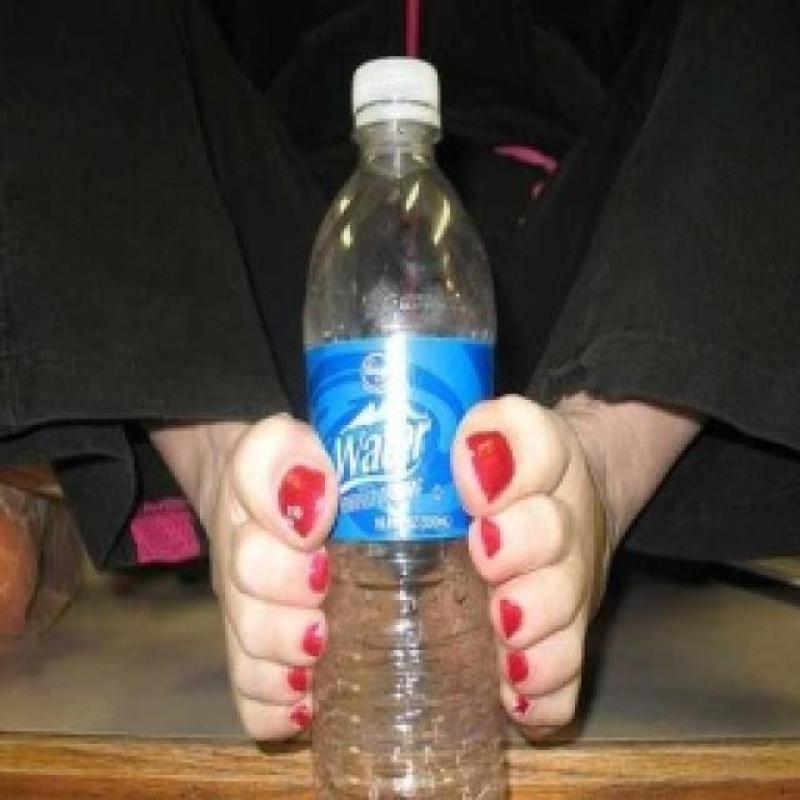botella: (300, 52, 512, 800)
